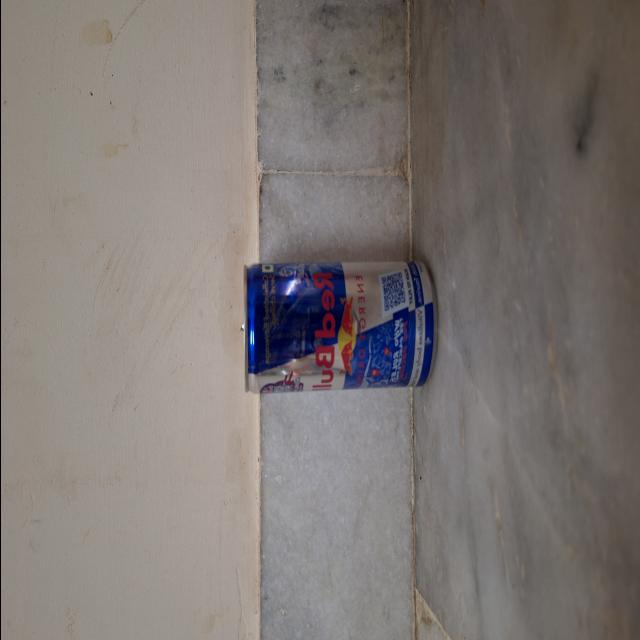Redbull DanceYourStyle: (235, 213, 442, 415)
